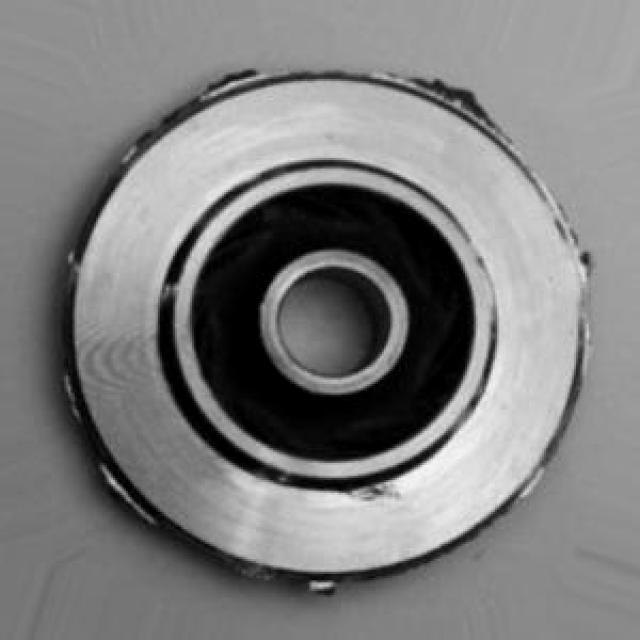Defect: (428, 72, 509, 130)
